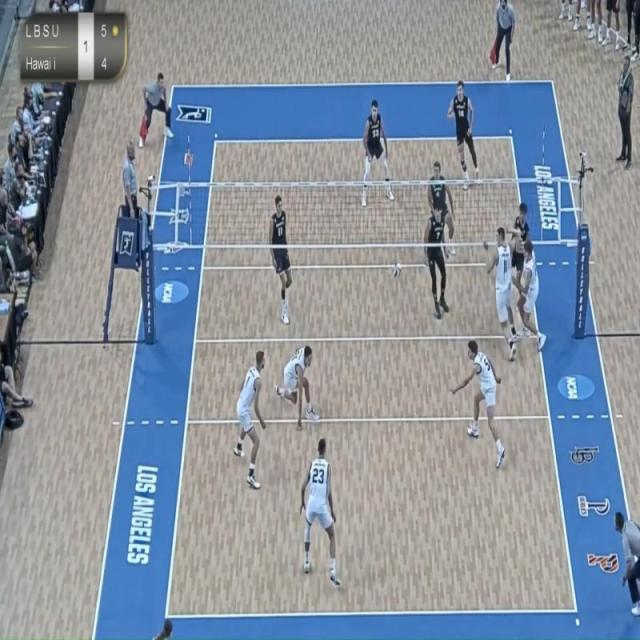volleyball: (390, 259, 402, 281)
